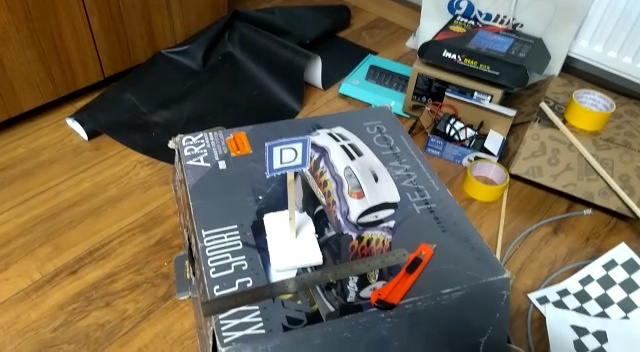durak: (261, 138, 310, 175)
